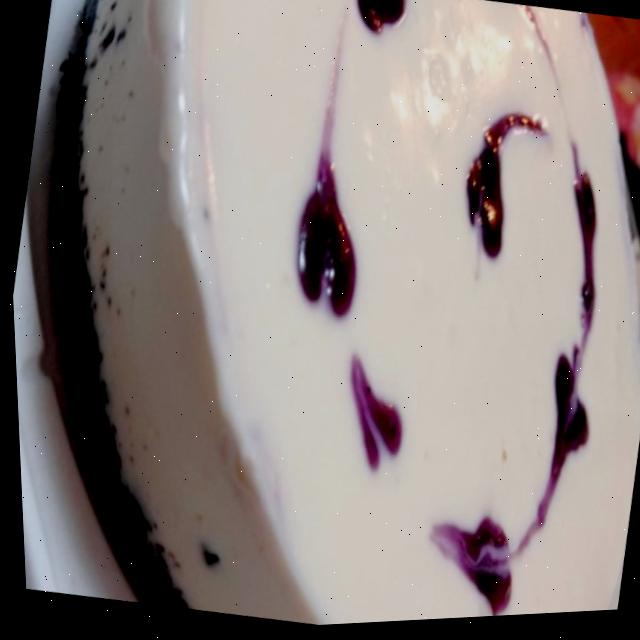豆腐料理: (142, 0, 495, 297)
